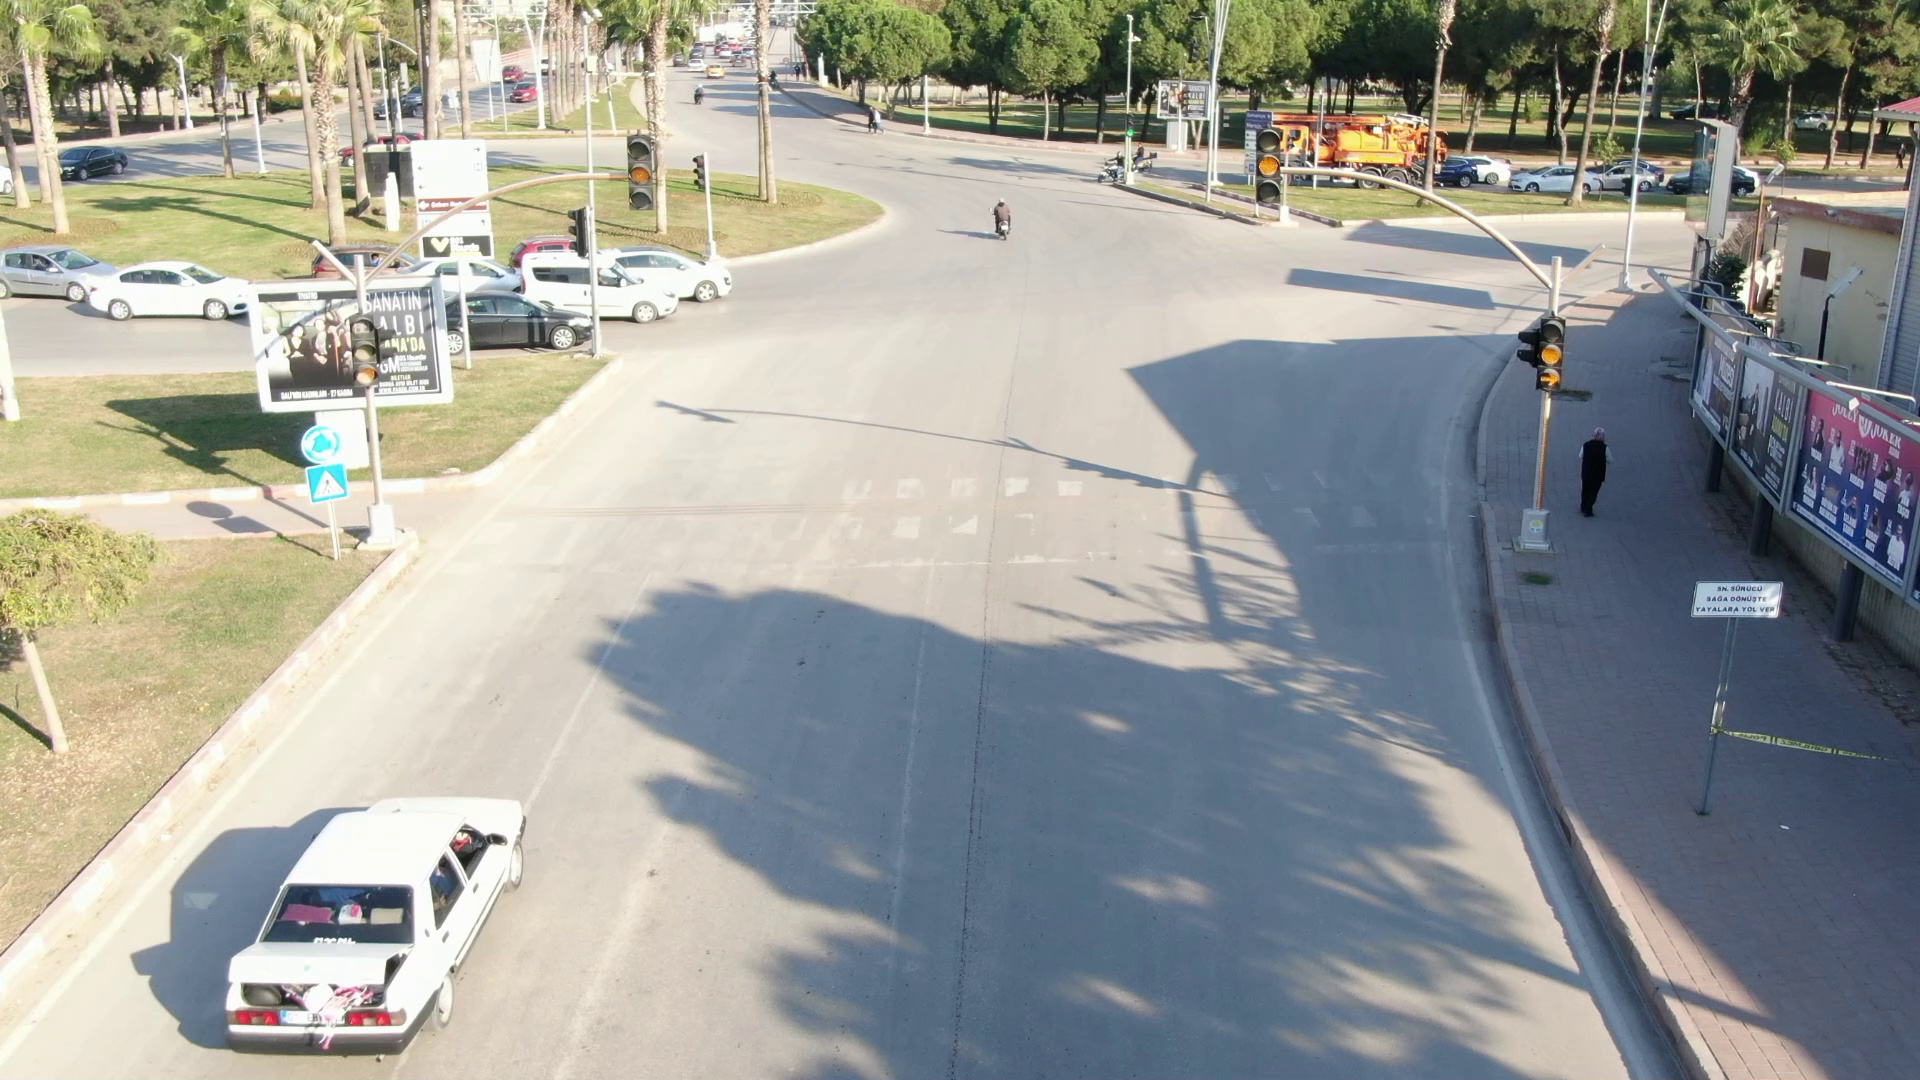car: (198, 757, 594, 1049), (514, 237, 700, 321), (72, 263, 273, 323)
person: (1559, 392, 1631, 529), (984, 192, 1025, 239)
